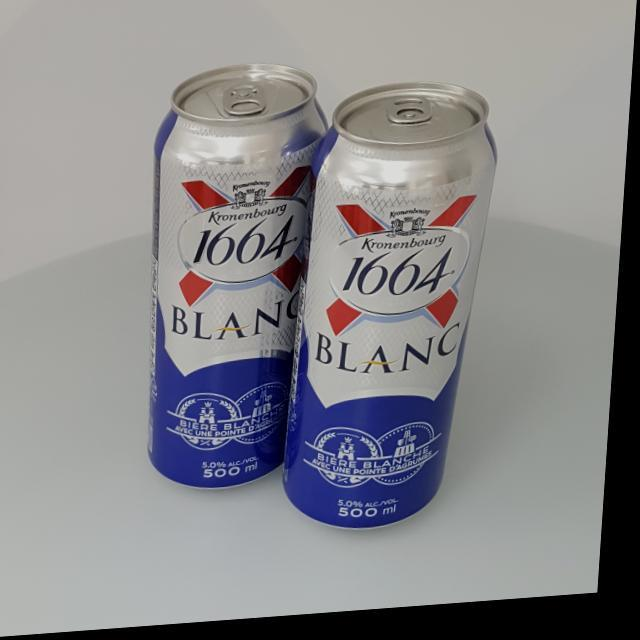beer-can: (286, 83, 504, 541), (138, 63, 334, 498)
